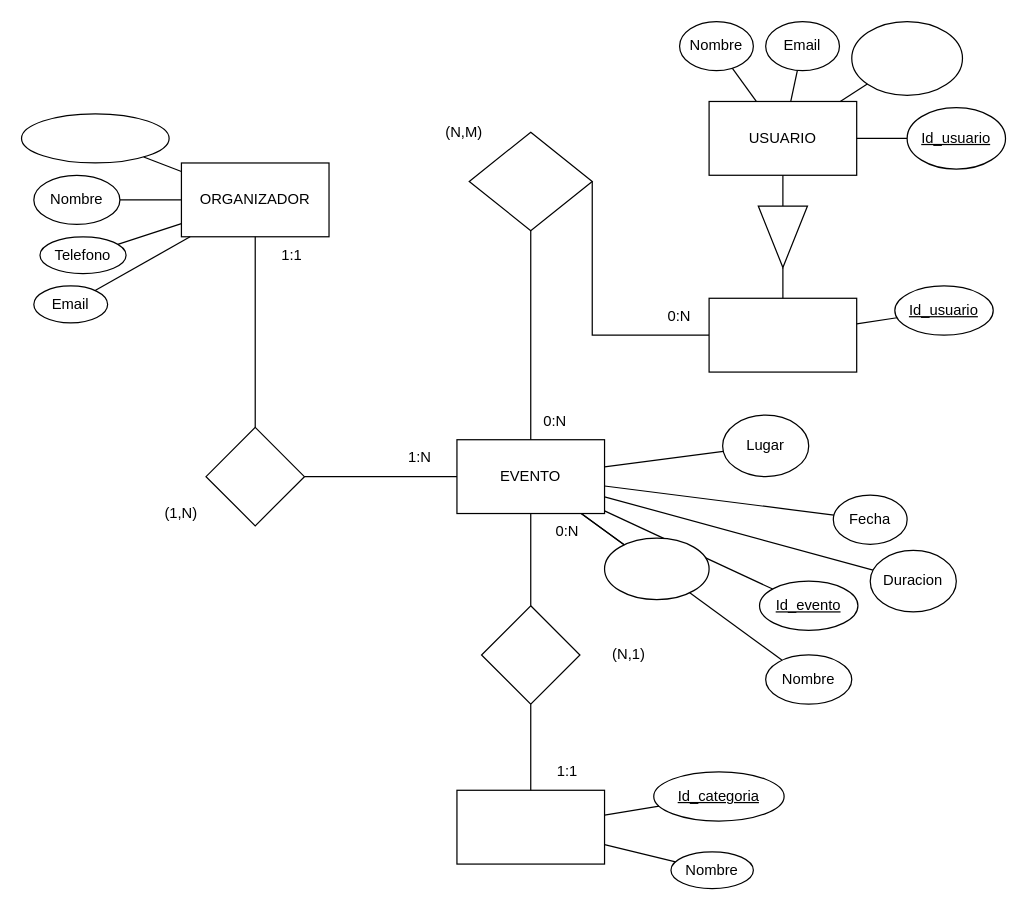
This 1027x910 diagram has some shape labels left out. The shapes that lost their labels are listed below. From the top down, each one's centre as x and y in pixels, then its label:
At (x=906, y=57): "Contraseña".
At (x=94, y=138): "Id_organizador".
At (x=530, y=181): "se inscribe".
At (x=782, y=334): "PARTICIPANTE".
At (x=254, y=476): "organiza".
At (x=656, y=568): "Descripción".
At (x=530, y=654): "es".
At (x=530, y=826): "CATEGORIA".
